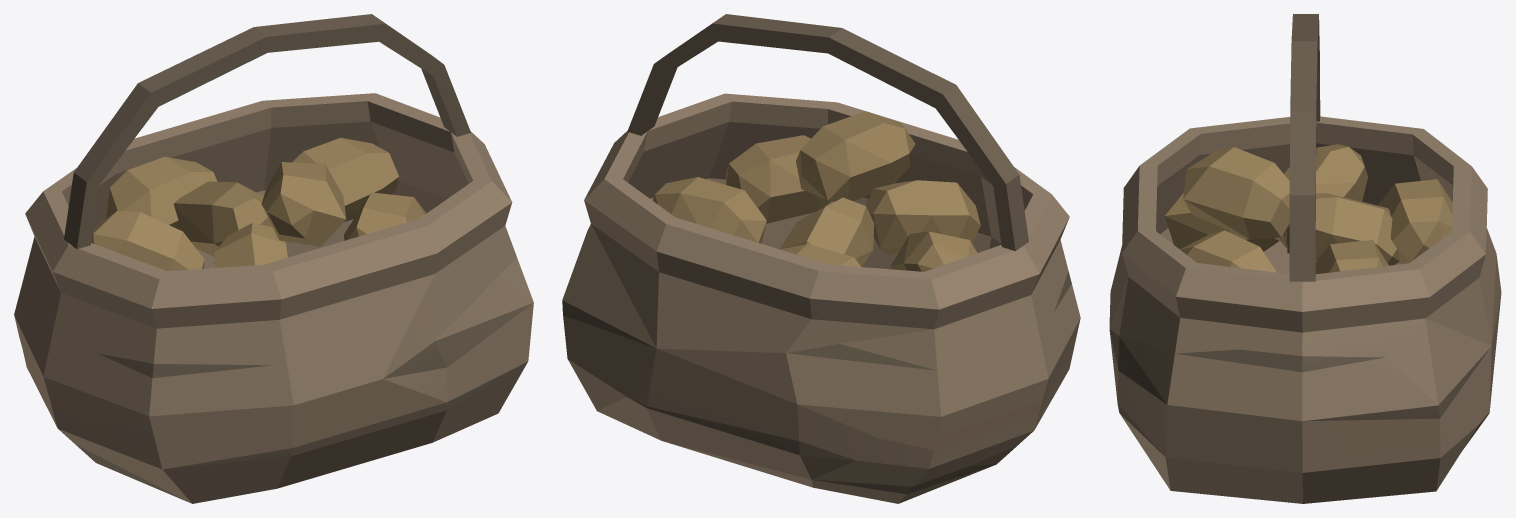
Rendered from basket.fbx.
The picture shows the model from 3 angles, left to right: view 1: azimuth 30°, elevation 25°; view 2: azimuth 150°, elevation 25°; view 3: azimuth 270°, elevation 25°; orthographic projection.
Parts seen in each view (by area): view 1: basket; view 2: basket; view 3: basket.
Boxes of the visible parts, x1=… form: basket: x1=14, y1=14, x2=533, y2=503; basket: x1=562, y1=14, x2=1080, y2=503; basket: x1=1109, y1=14, x2=1501, y2=503.
Size of the model in its own units: 131 by 107 by 98.53.
